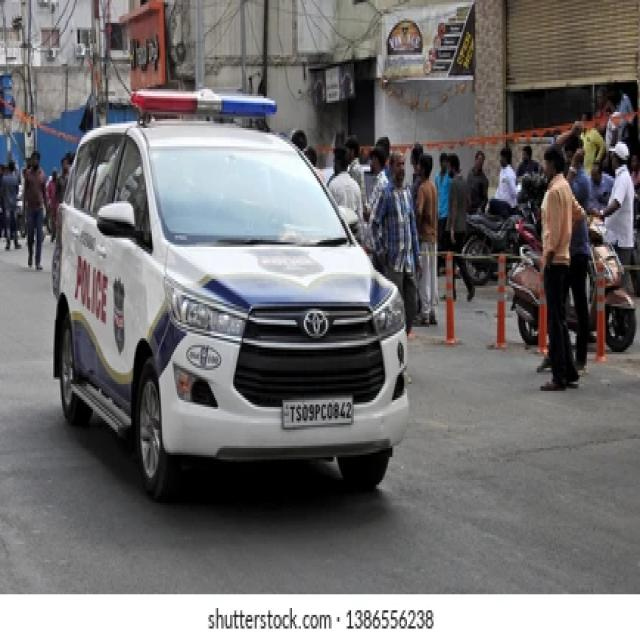Police: (60, 75, 428, 527)
